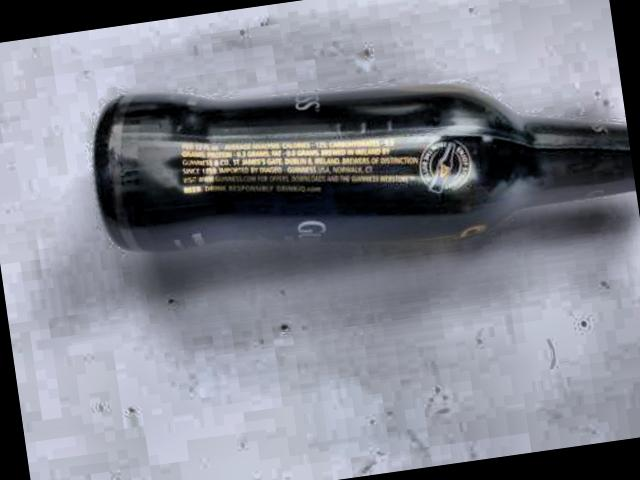Bottles: (74, 10, 640, 328)
